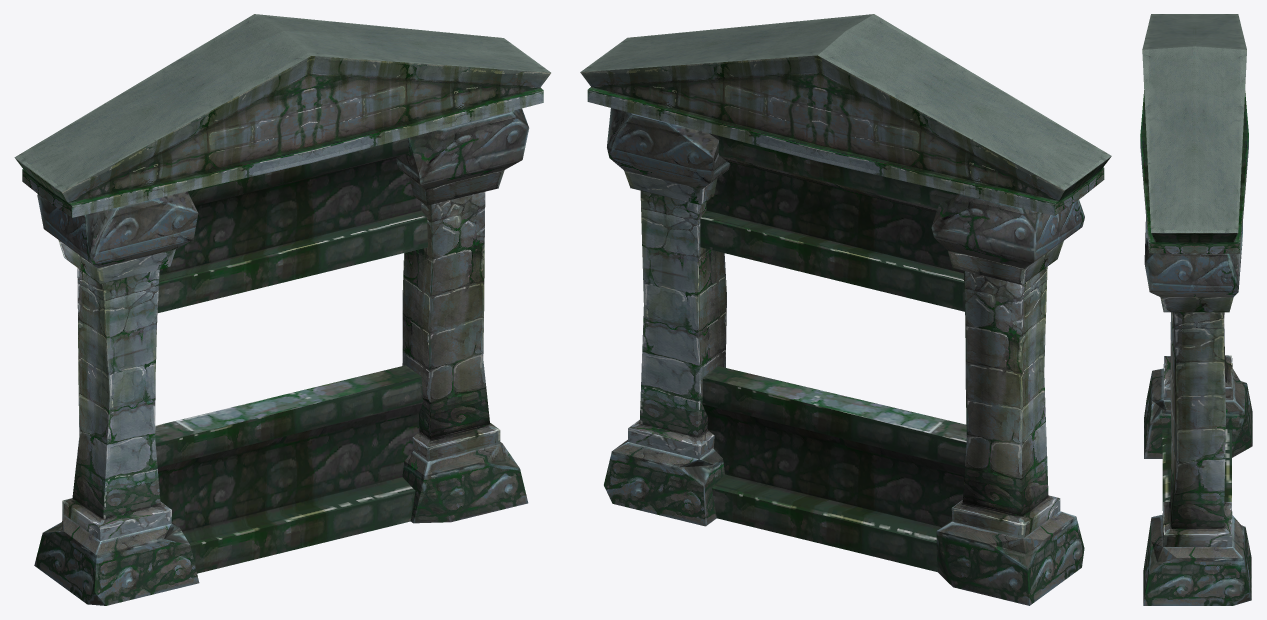
File: stemple_pediment_03.fbx
The picture shows the model from 3 angles, left to right: view 1: azimuth 30°, elevation 25°; view 2: azimuth 150°, elevation 25°; view 3: azimuth 270°, elevation 25°; orthographic projection. The views are drawn at different scales.
Visible parts, largest first — view 1: stemple_pediment_03-0; view 2: stemple_pediment_03-0; view 3: stemple_pediment_03-0.
Boxes of the visible parts, left/top/right/bottom form: stemple_pediment_03-0: left=14, top=14, right=550, bottom=605; stemple_pediment_03-0: left=580, top=14, right=1111, bottom=605; stemple_pediment_03-0: left=1140, top=14, right=1252, bottom=605.
Size of the model in its own units: 7.17 by 7.06 by 1.55.
